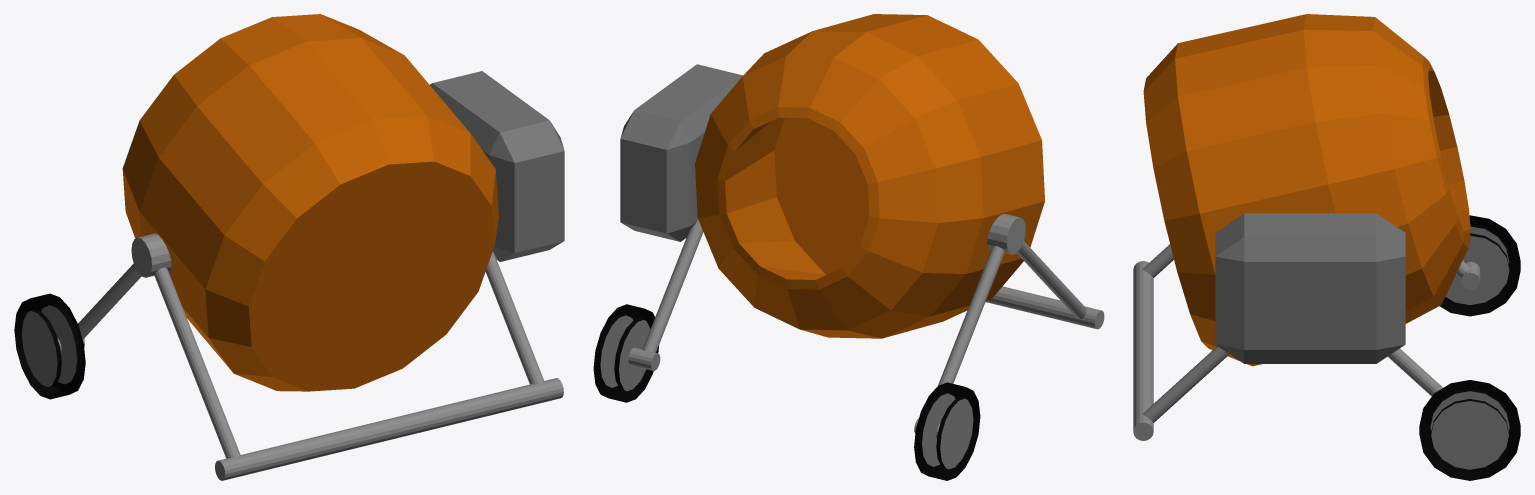
The model's file is CementMixer.fbx.
The picture shows the model from 3 angles, left to right: view 1: azimuth 30°, elevation 25°; view 2: azimuth 150°, elevation 25°; view 3: azimuth 270°, elevation 25°; orthographic projection. The views are drawn at different scales.
Visible parts, largest first — view 1: Cube.009; view 2: Cube.009; view 3: Cube.009.
Boxes of the visible parts, bbox=[...] form: Cube.009: bbox=[14, 14, 564, 480]; Cube.009: bbox=[593, 14, 1104, 480]; Cube.009: bbox=[1133, 14, 1520, 480].
Bounding box in the file's own units: 506 × 441 × 425.
